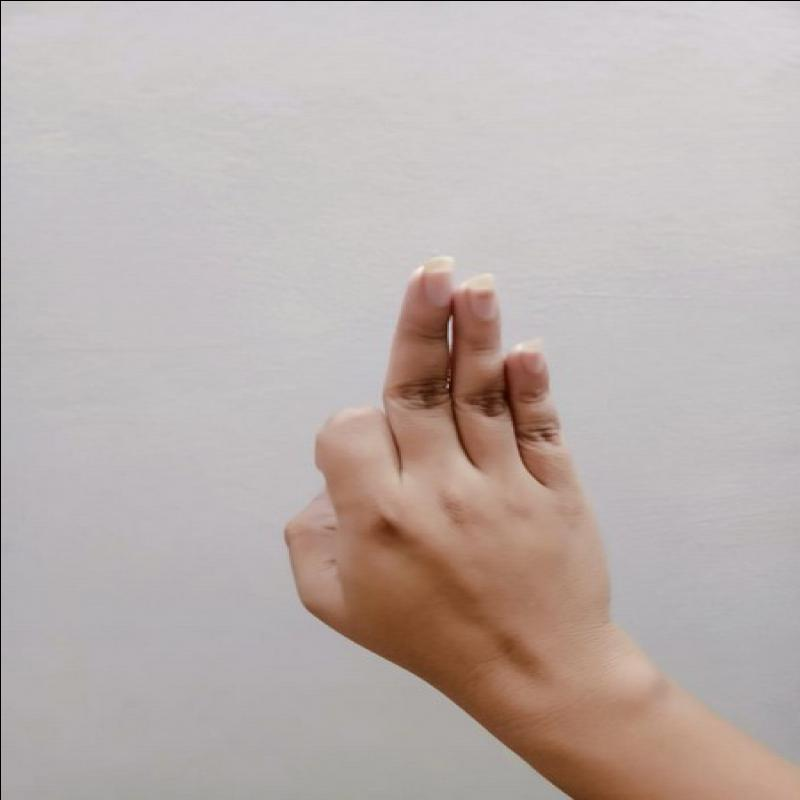Mudraakhyam: (258, 249, 618, 690)
